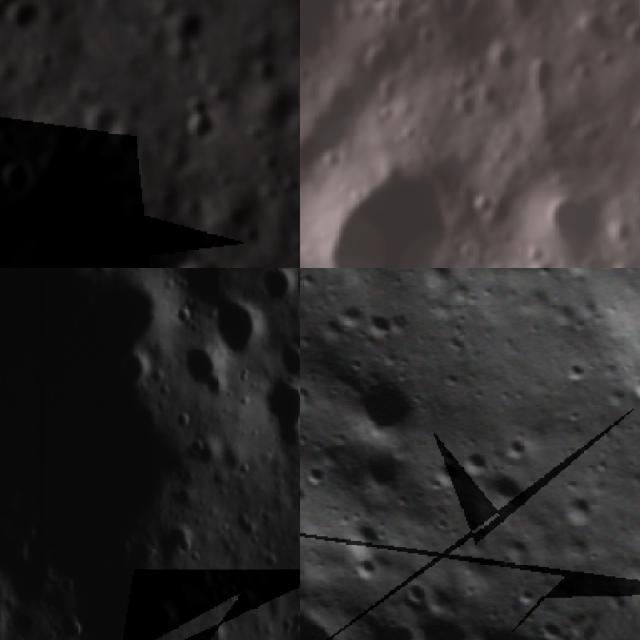crater: (300, 159, 462, 268), (333, 362, 430, 460), (520, 182, 624, 268), (344, 444, 416, 516), (469, 465, 535, 529), (300, 584, 366, 640), (452, 605, 547, 640), (399, 601, 479, 640), (332, 512, 388, 567), (208, 304, 272, 352), (346, 604, 429, 640), (258, 379, 300, 450), (414, 448, 467, 502), (321, 293, 373, 346), (172, 94, 220, 148), (552, 487, 600, 536), (83, 102, 126, 152), (359, 310, 404, 356), (38, 140, 77, 192), (181, 351, 225, 394), (453, 445, 496, 488), (140, 601, 183, 640), (0, 155, 32, 206), (186, 569, 220, 609), (182, 431, 216, 471), (562, 56, 599, 91), (347, 552, 382, 588), (356, 268, 433, 284), (258, 268, 294, 302), (442, 98, 480, 129), (168, 524, 197, 563), (489, 45, 524, 76), (360, 42, 391, 76), (615, 105, 640, 146), (620, 17, 640, 61), (622, 366, 640, 412), (597, 44, 622, 74), (200, 620, 234, 640), (281, 345, 300, 379), (478, 186, 500, 215), (63, 618, 88, 640), (59, 573, 80, 597), (417, 25, 437, 47), (88, 268, 114, 282), (285, 610, 300, 633), (292, 489, 300, 521)
